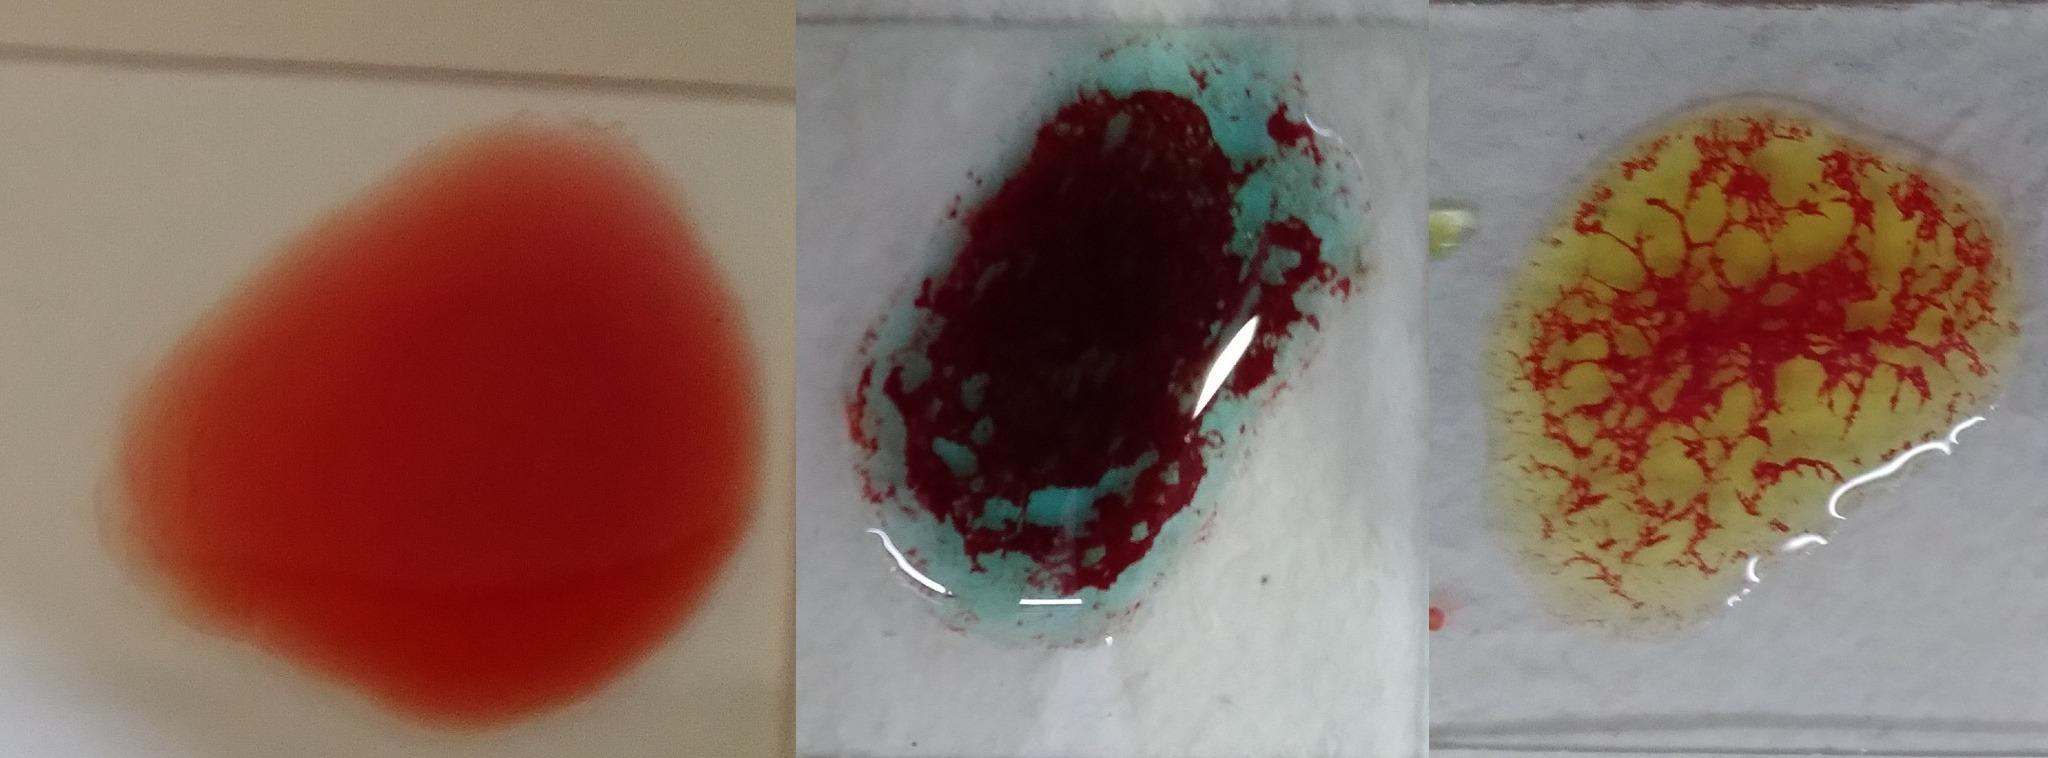A: (852, 30, 1332, 648)
B: (1496, 91, 2011, 646)
